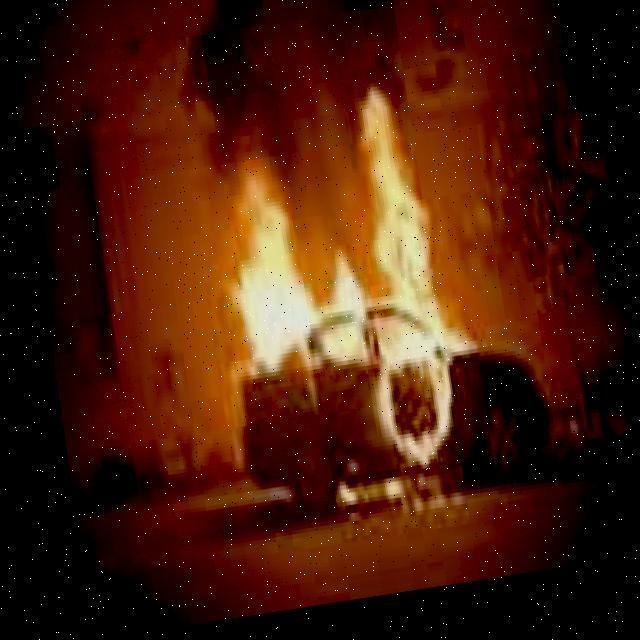Fire: (193, 87, 477, 513)
